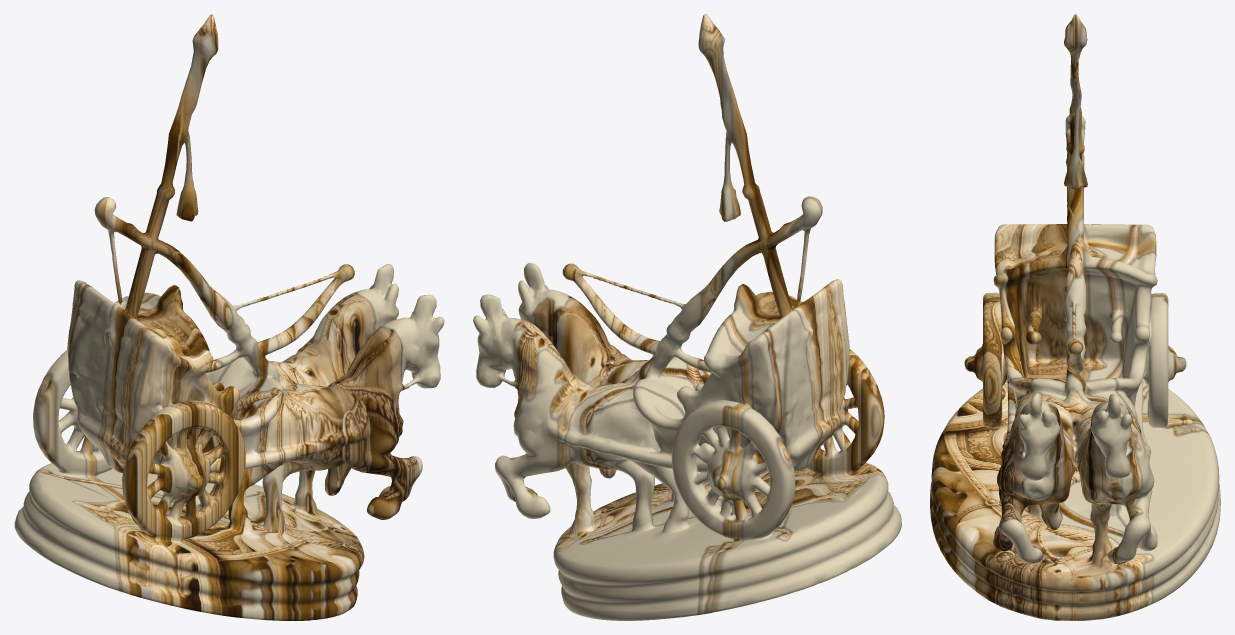
The model's file is ratha.glb.
The picture shows the model from 3 angles, left to right: view 1: azimuth 30°, elevation 25°; view 2: azimuth 150°, elevation 25°; view 3: azimuth 270°, elevation 25°; orthographic projection. The views are drawn at different scales.
Visible parts, largest first — view 1: geometry_0; view 2: geometry_0; view 3: geometry_0.
Boxes of the visible parts, x1,y1,x2,y2 form: geometry_0: (14,14,444,620); geometry_0: (473,14,901,620); geometry_0: (930,14,1220,620).
Size of the model in its own units: 1.48 by 2.19 by 1.05.
Materials: 1 (1 with a texture image).
